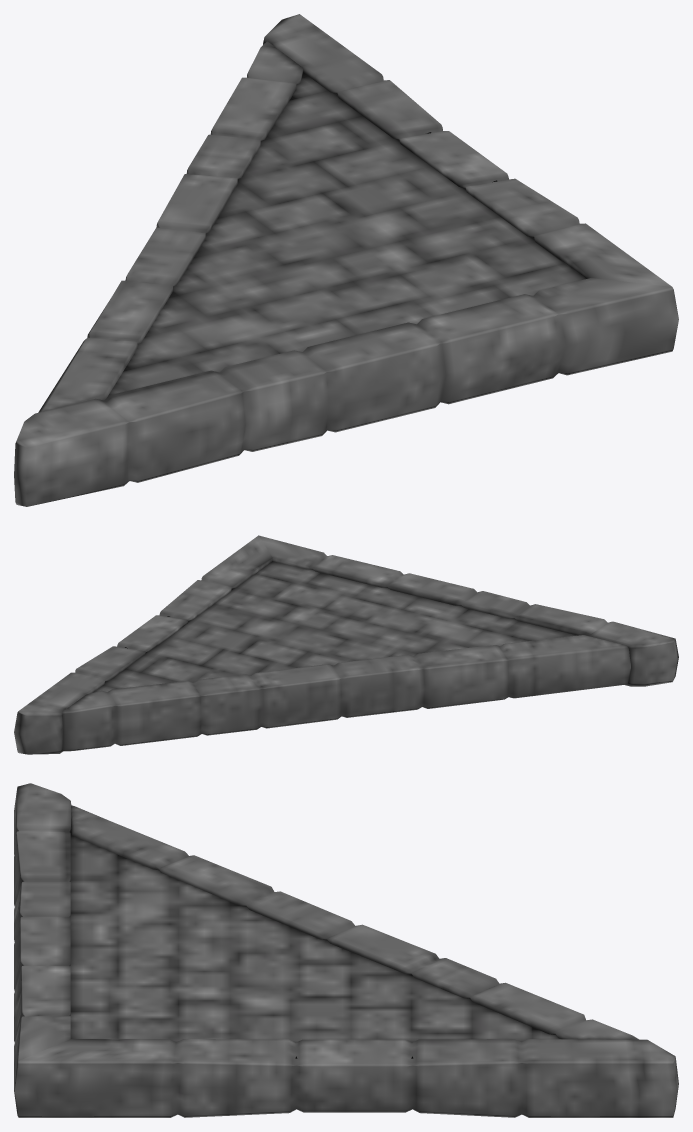
File: SM_RoofTriangle_Stone_6beccf.glb
The picture shows the model from 3 angles, top to bottom: view 1: azimuth 30°, elevation 25°; view 2: azimuth 150°, elevation 25°; view 3: azimuth 270°, elevation 25°; orthographic projection. The views are drawn at different scales.
Bounding box in the file's own units: 3.98 × 0.3736 × 3.96.
Materials: 1 (1 with a texture image).
